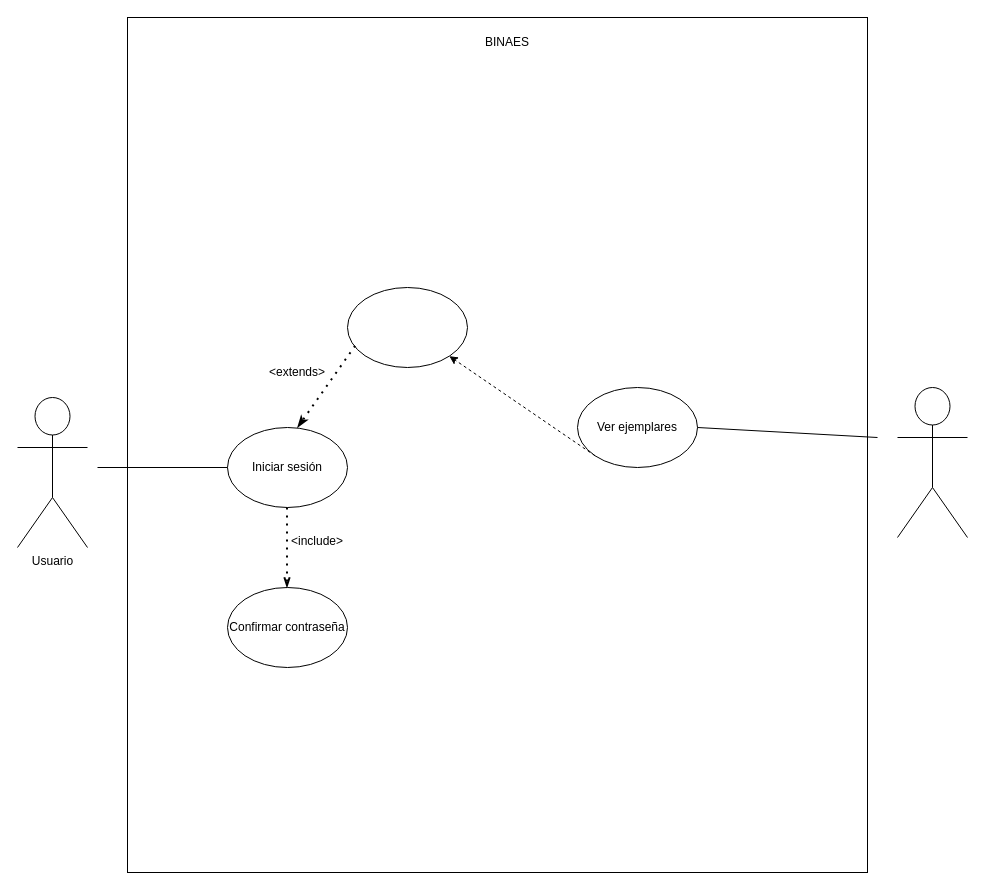
Some shapes in this 985 by 890 pixel diagram are drawn without their labels. The box of each missing label's shape, as (x1, y1, x2, y2) in pixels:
Biblioteca: (896, 386, 968, 538)
Conceder acceso: (346, 286, 468, 368)
